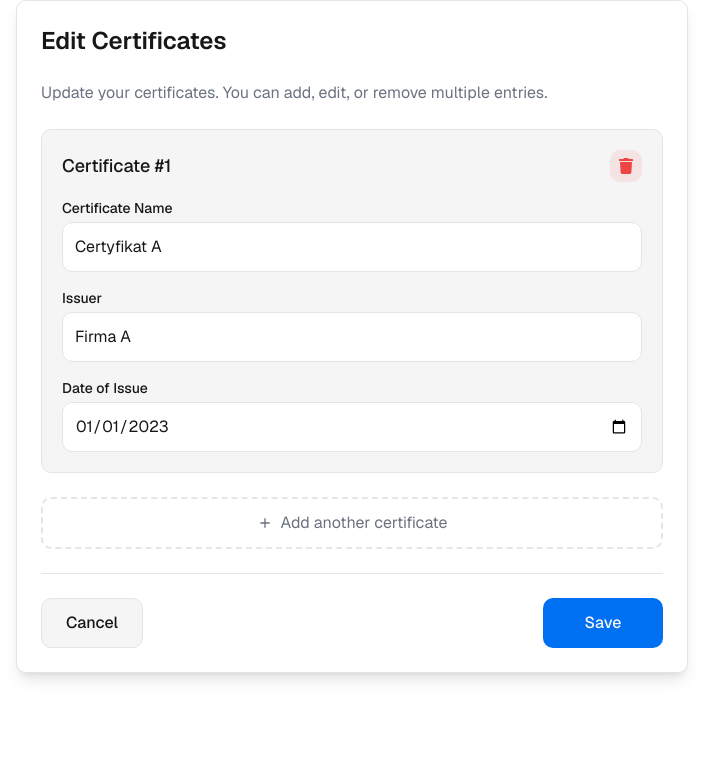
EditCertificatesForm Component › Przesyłanie i aktualizacja danych › powinien zgłosić błąd zapisu z użyciem axios.put
Click the button "Save": (603, 623) [543,598,663,648]
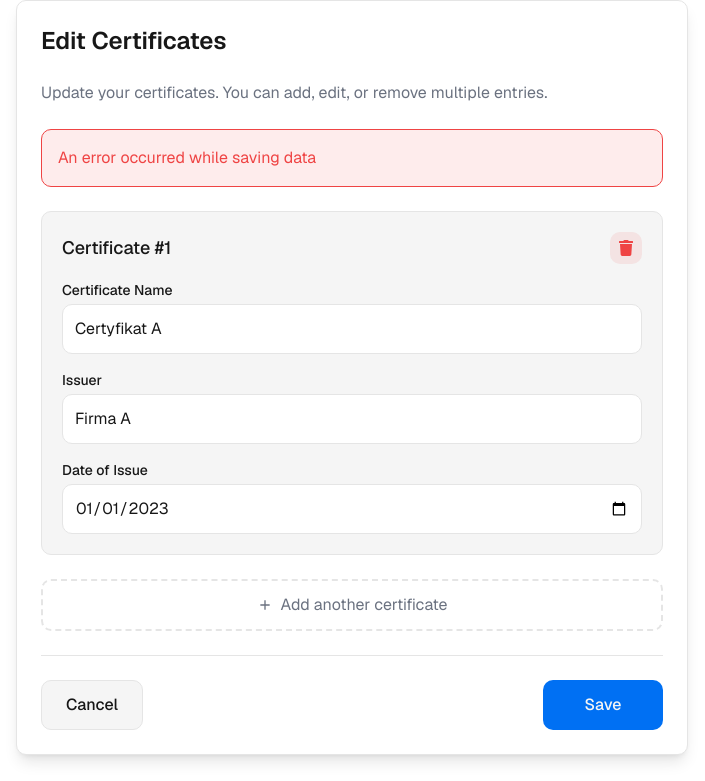
Now the text "An error occurred while saving data" is shown, box [41,129,663,187]
